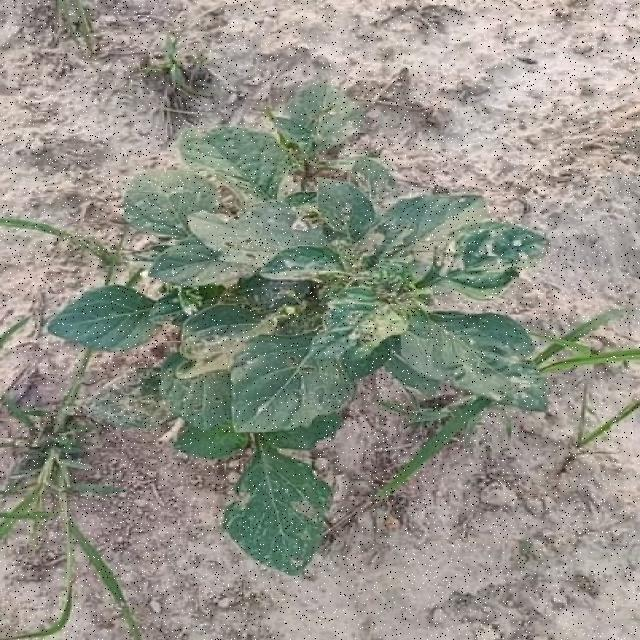weed: (46, 84, 546, 575)
